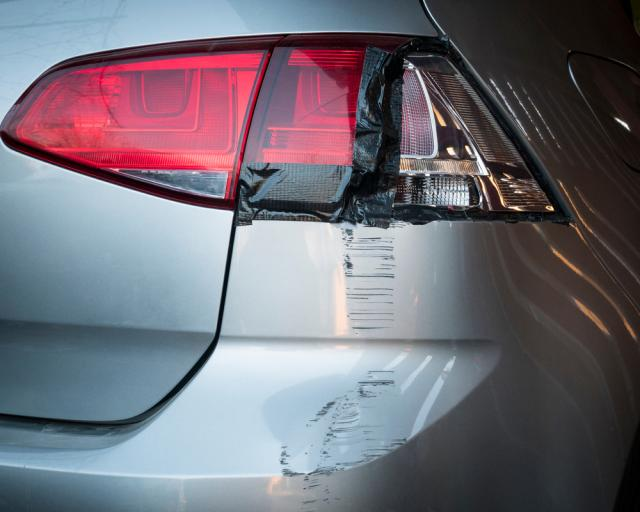scratch: (274, 364, 414, 512), (340, 221, 405, 335)
